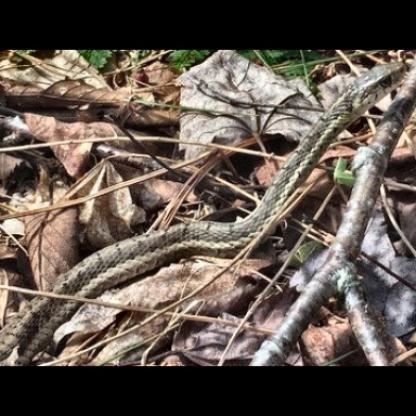Snake: (2, 224, 247, 366), (244, 61, 410, 245)
